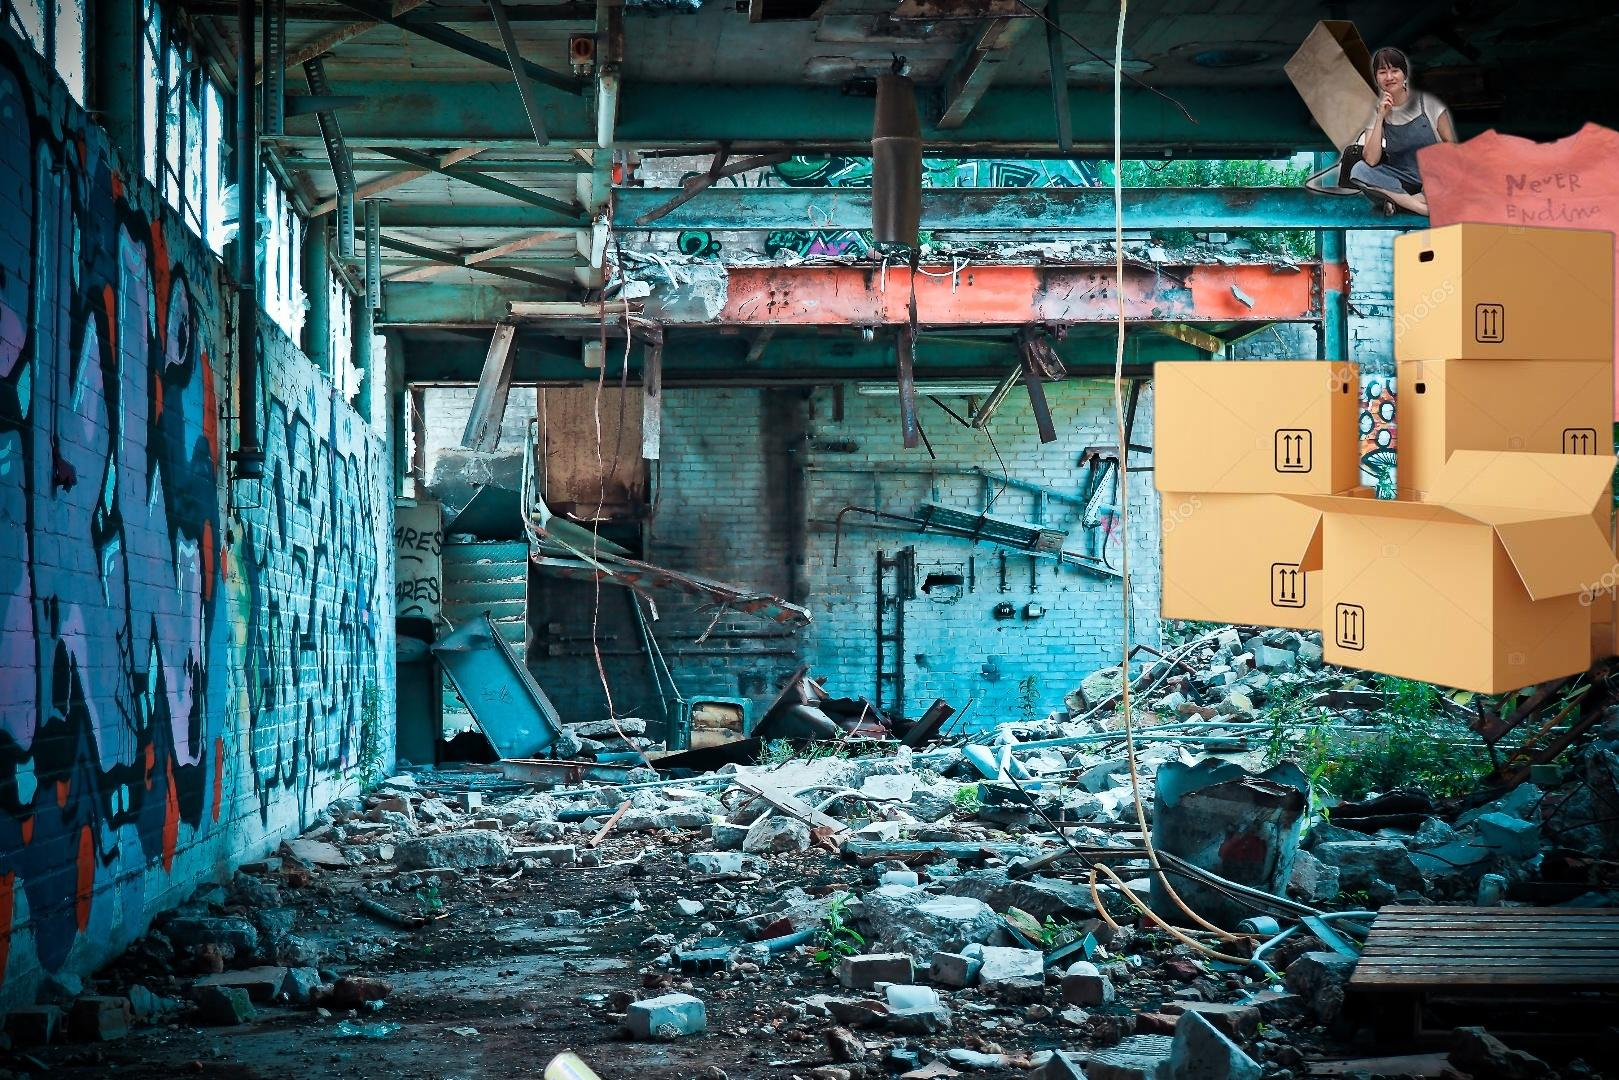clothes: (1392, 117, 1619, 439)
metal-cans: (517, 1045, 691, 1080)
paper-bag: (1281, 17, 1412, 180)
trashbox-cardboard: (1143, 215, 1619, 732), (1285, 36, 1494, 239)
